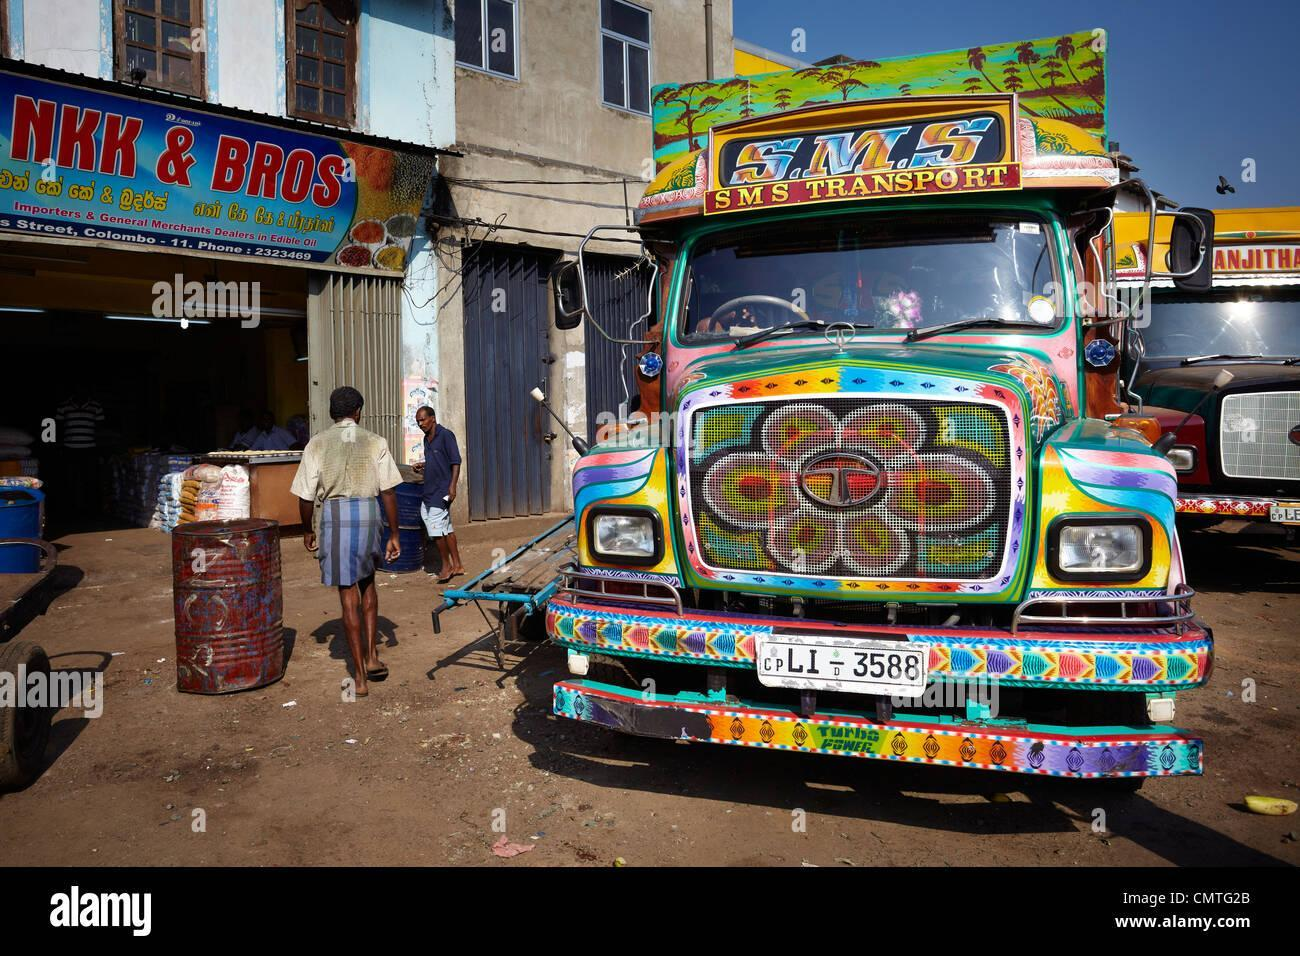truck: (543, 27, 1210, 777), (1113, 208, 1300, 523)
